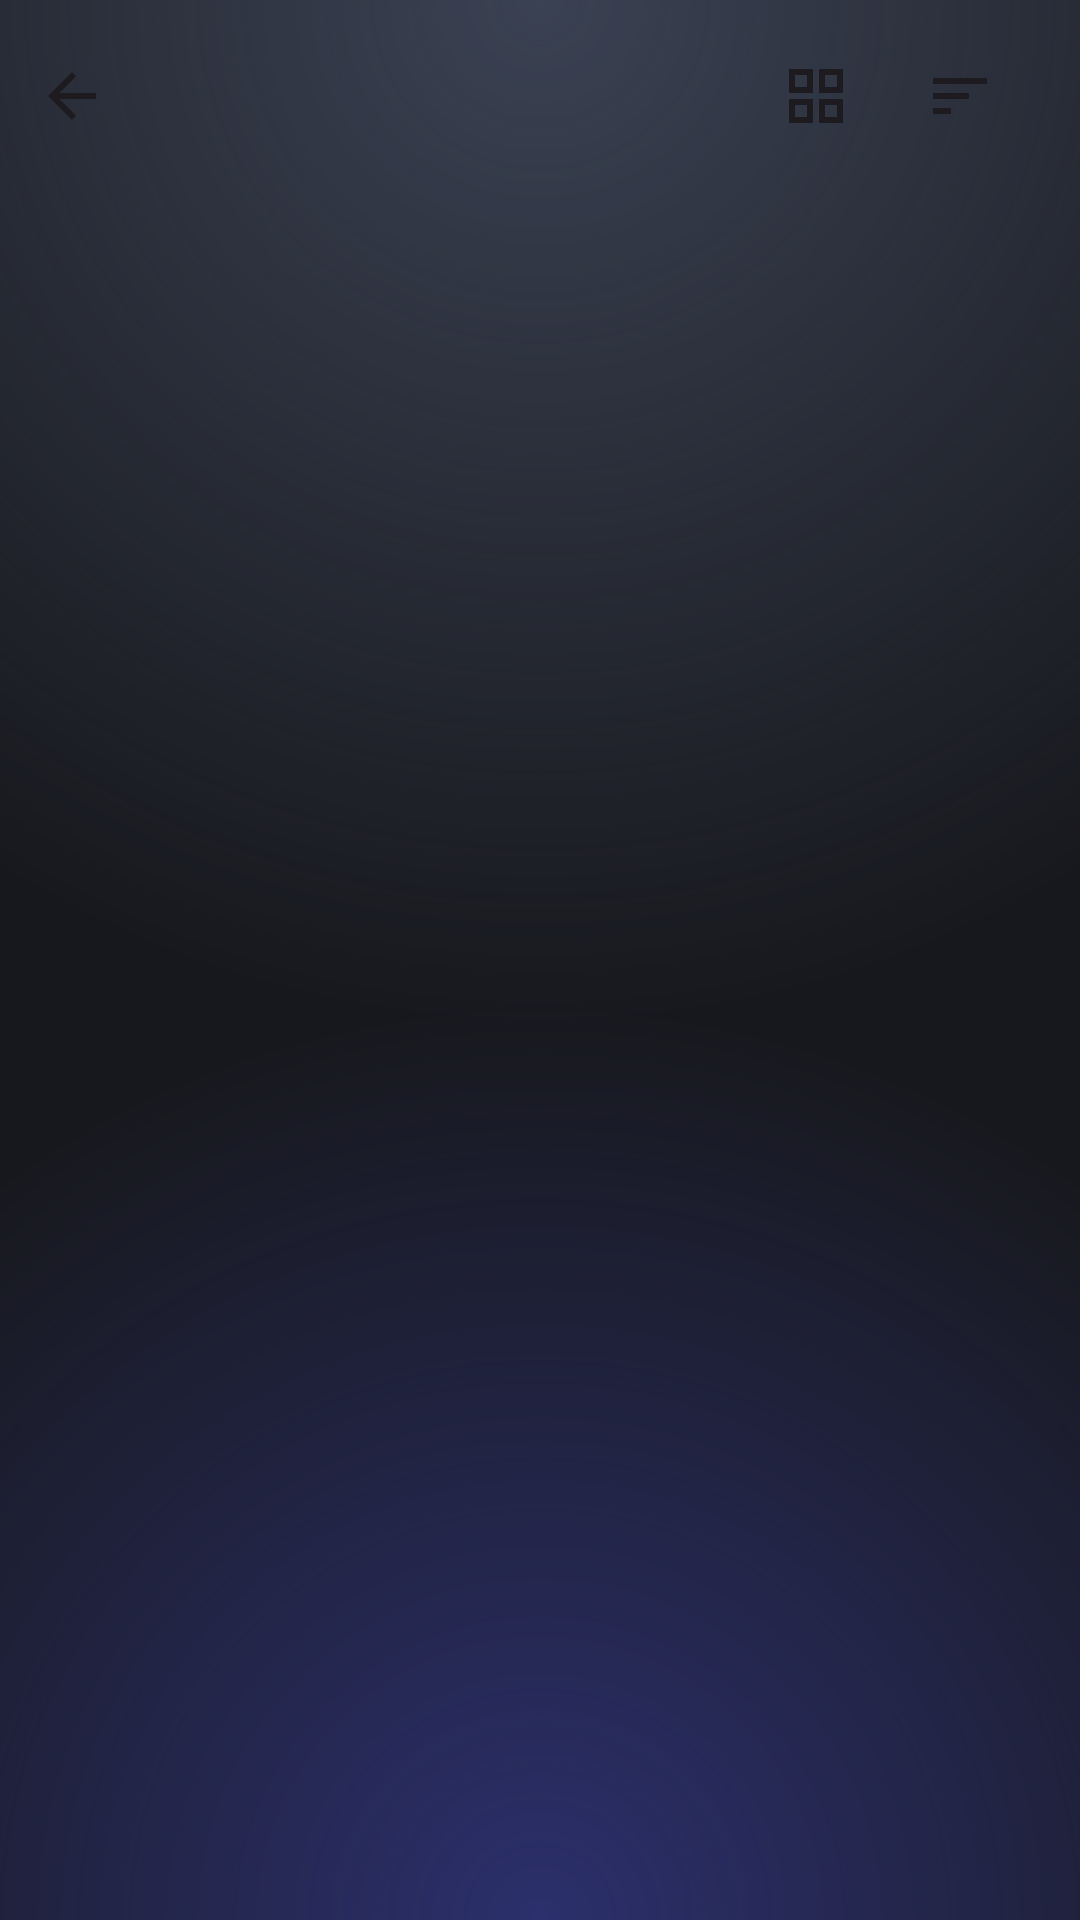

Where to tap for icons on this 1080px x 1920px app screen, as point (x, y):
Alternar lista e grade: point (816, 96)
Ordenar: point (960, 96)
Voltar: point (72, 96)
